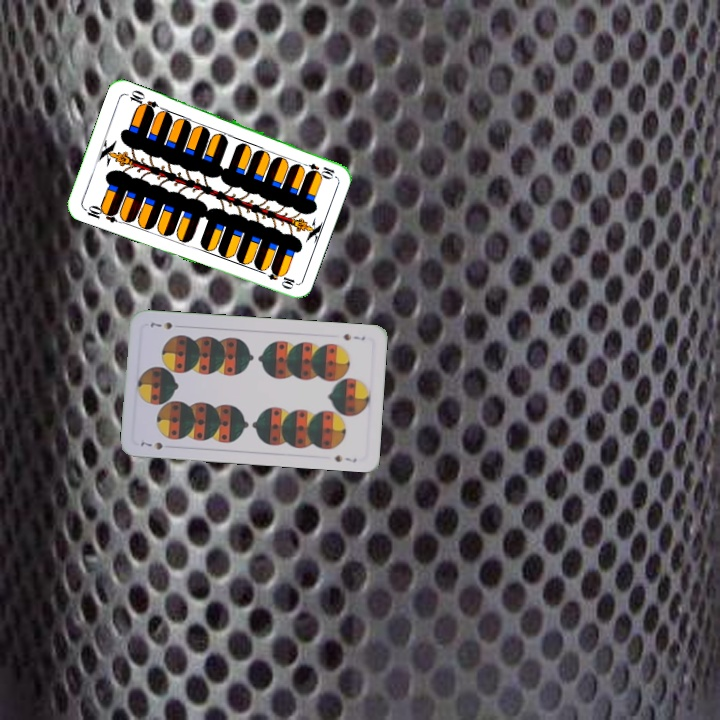E10: (80, 201, 120, 225), (297, 158, 337, 180)
S7: (137, 437, 165, 452), (339, 330, 367, 343)
